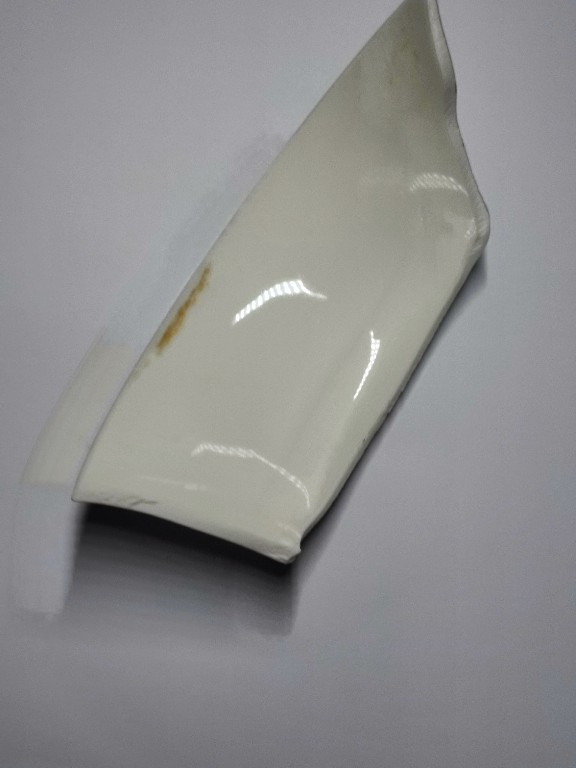ceramics: (68, 1, 504, 570)
